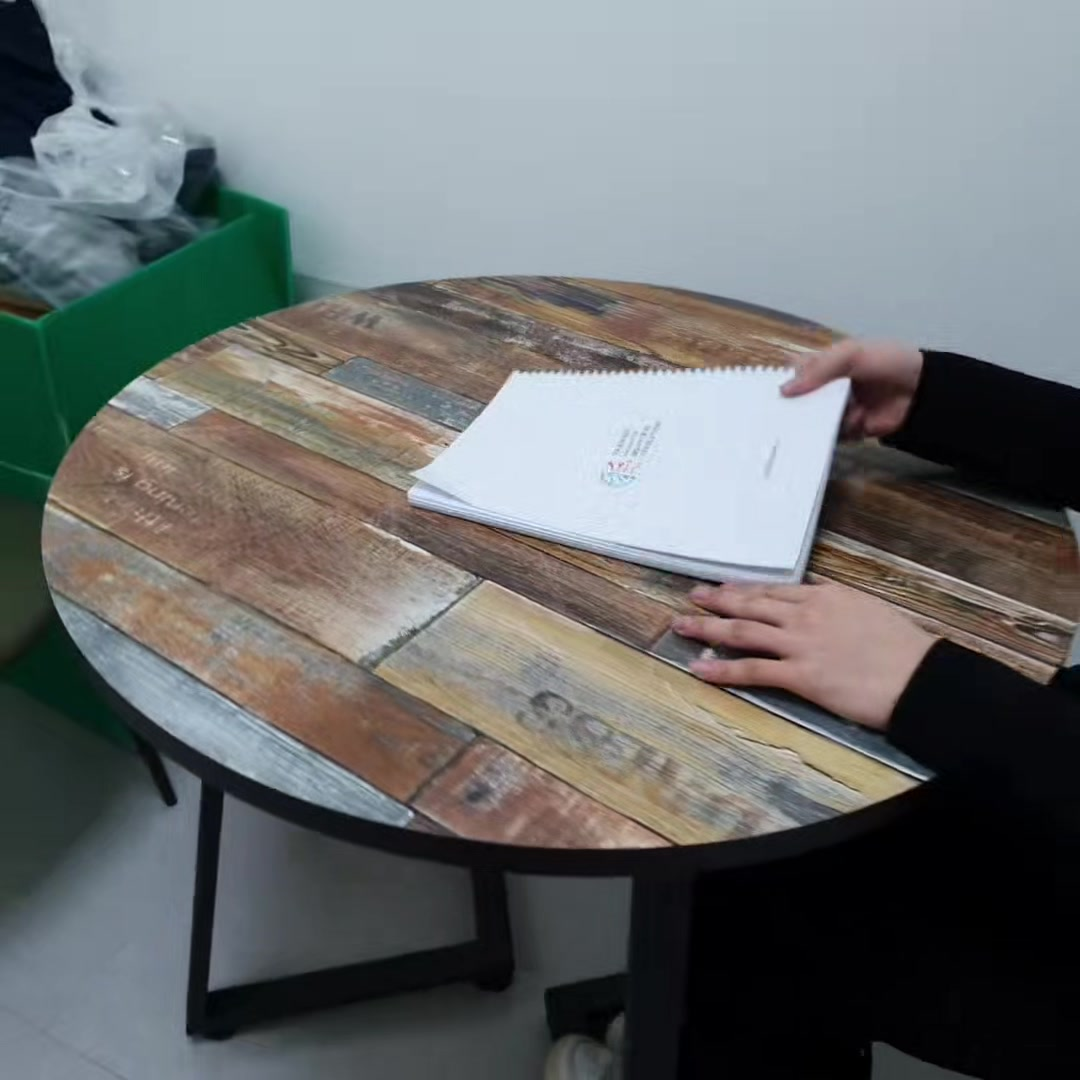book: (400, 363, 854, 581)
